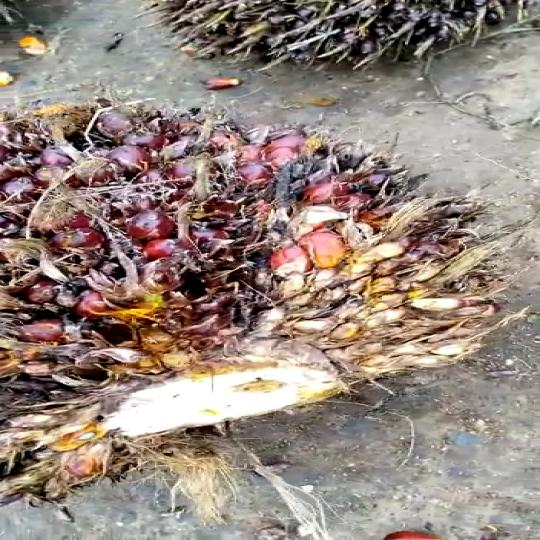masak: (0, 78, 540, 520)
